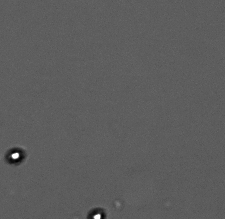Living Cell: (6, 147, 25, 164), (87, 207, 105, 219)
